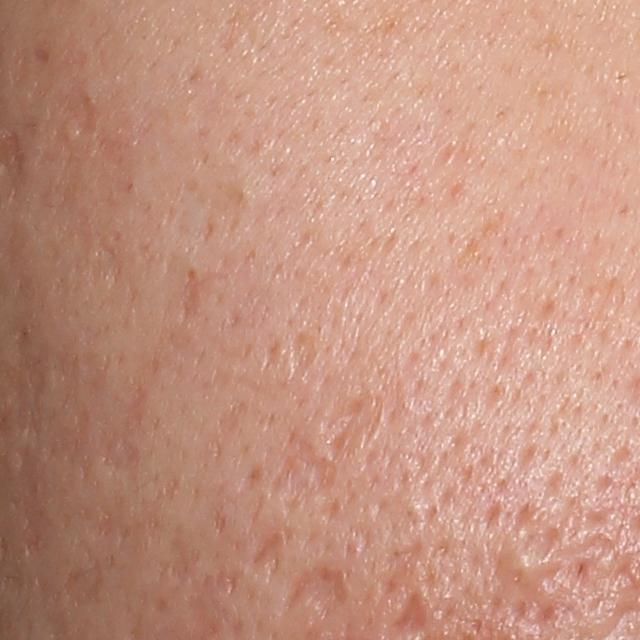atrophic_scar: (269, 436, 338, 516), (100, 374, 151, 482), (41, 79, 101, 170), (320, 391, 387, 461), (280, 562, 355, 624), (61, 551, 110, 611), (246, 524, 289, 585), (387, 587, 433, 636), (290, 331, 319, 378), (178, 269, 203, 323)
hypertrophic_scar: (490, 537, 561, 591)
